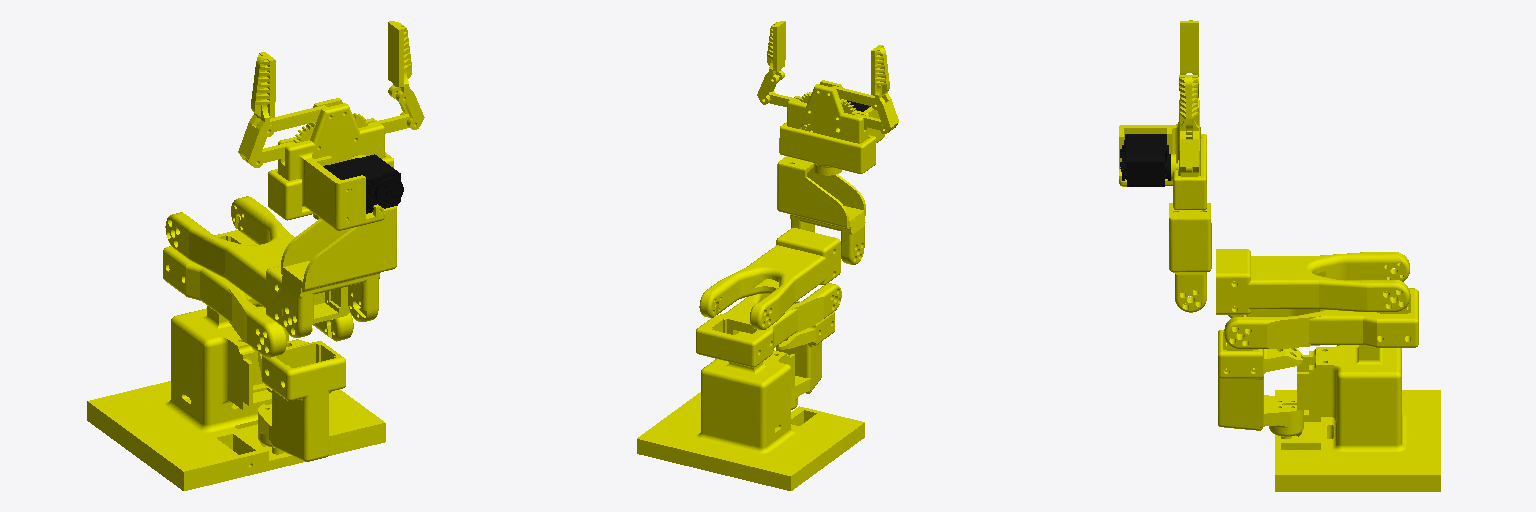
The robot description file, URDF, robot "main_arm":
<robot name="main_arm">
<material name= "printed">
    <color rgba = "0.9 0.9 0.0 1.0"/>
</material>
<material name= "sts3215">
    <color rgba="0.1 0.1 0.1 1.0"/>
</material>

    <link name="servo_elbow_ShA">
        <inertial>
            <mass value="0.06" />
            <origin xyz="0.0159729 0.01025 0.016199" rpy="0 -0 0" />
            <inertia ixx="1.29868e-05" ixy="0" ixz="0" iyy="1.55091e-05" iyz="0" izz="8.3837e-06" />
        </inertial>
        <visual>
            <origin xyz="0.00846974 0.0720049 -0.0769181" rpy="0 -0 0" />
            <geometry>
                <mesh filename="asset/servo_elbow_ShA.stl" scale="1 1 1" />
            </geometry>
          <material name="sts3215"/>
        </visual>
    <collision><origin xyz="0.00846974 0.0720049 -0.0769181" rpy="0 -0 0" />
            <geometry>
                <mesh filename="asset/servo_elbow_ShA.stl" scale="1 1 1" />
            </geometry>
            </collision></link>

    <link name="servo_WristRoll">
        <inertial>
            <mass value="0.06" />
            <origin xyz="0.0160729 -0.01025 0.016199" rpy="0 -0 0" />
            <inertia ixx="1.29868e-05" ixy="0" ixz="0" iyy="1.55091e-05" iyz="0" izz="8.3837e-06" />
        </inertial>
        <visual>
            <origin xyz="0.00856974 0.0515049 -0.0769181" rpy="0 -0 0" />
            <geometry>
                <mesh filename="asset/servo_WristRoll.stl" scale="1 1 1" />
            </geometry>
            <material name="sts3215"/>
        </visual>
        <collision>
            <origin xyz="0.00856974 0.0515049 -0.0769181" rpy="0 -0 0" />
                <geometry>
                    <mesh filename="asset/servo_WristRoll.stl" scale="1 1 1" />
                </geometry>
        </collision>
    </link>
    <link name="servo_gripperAct">
        <inertial>
            <mass value="0.06" />
            <origin xyz="0.0158729 -0.01025 0.016199" rpy="0 -0 0" />
            <inertia ixx="1.29868e-05" ixy="0" ixz="0" iyy="1.55091e-05" iyz="0" izz="8.3837e-06" />
        </inertial>
        <visual>
            <origin xyz="0.00836974 0.0515049 -0.0769181" rpy="0 -0 0" />
            <geometry>
                <mesh filename="asset/servo_GripperACT.stl" scale="1 1 1" />
            </geometry>
          <material name="sts3215"/>
        </visual>
    <collision><origin xyz="0.00836974 0.0515049 -0.0769181" rpy="0 -0 0" />
            <geometry>
                <mesh filename="asset/servo_GripperACT.stl" scale="1 1 1" />
            </geometry>
            </collision></link>
    <link name="servo_Wrist_elbow">
        <inertial>
            <mass value="0.06" />
            <origin xyz="0.0157729 -0.01025 0.016199" rpy="0 -0 0" />
            <inertia ixx="1.29868e-05" ixy="0" ixz="0" iyy="1.55091e-05" iyz="0" izz="8.3837e-06" />
        </inertial>
        <visual>
            <origin xyz="0.00826974 0.0515049 -0.0769181" rpy="0 -0 0" />
            <geometry>
                <mesh filename="asset/servo_wrist_elbow.stl" scale="1 1 1" />
            </geometry>
          <material name="sts3215"/>
        </visual>
    <collision><origin xyz="0.00826974 0.0515049 -0.0769181" rpy="0 -0 0" />
            <geometry>
                <mesh filename="asset/servo_wrist_elbow.stl" scale="1 1 1" />
            </geometry>
            </collision></link>
    <link name="servo_shouldArm_should">
        <inertial>
            <mass value="0.06" />
            <origin xyz="0.0159729 -0.01025 0.016199" rpy="0 -0 0" />
            <inertia ixx="1.29868e-05" ixy="0" ixz="0" iyy="1.55091e-05" iyz="0" izz="8.3837e-06" />
        </inertial>
        <visual>
            <origin xyz="0.00846974 0.0515049 -0.0769181" rpy="0 -0 0" />
            <geometry>
                <mesh filename="asset/servo_ShA_should.stl" scale="1 1 1" />
            </geometry>
          <material name="sts3215"/>
        </visual>
    <collision><origin xyz="0.00846974 0.0515049 -0.0769181" rpy="0 -0 0" />
            <geometry>
                <mesh filename="asset/servo_ShA_should.stl" scale="1 1 1" />
            </geometry>
            </collision></link>
    <link name="servo_shoulderpan">
        <inertial>
            <mass value="0.06" />
            <origin xyz="0.0157729 0.01025 0.016199" rpy="0 -0 0" />
            <inertia ixx="1.29868e-05" ixy="0" ixz="0" iyy="1.55091e-05" iyz="0" izz="8.3837e-06" />
        </inertial>
        <visual>
            <origin xyz="0.00826974 0.0720049 -0.0769181" rpy="0 -0 0" />
            <geometry>
                <mesh filename="asset/servo_should_base.stl" scale="1 1 1" />
            </geometry>
          <material name="sts3215"/>
        </visual>
    <collision><origin xyz="0.00826974 0.0720049 -0.0769181" rpy="0 -0 0" />
            <geometry>
                <mesh filename="asset/servo_should_base.stl" scale="1 1 1" />
            </geometry>
            </collision></link>
    <link name="adapter_head">
        <inertial>
            <mass value="0.019" />
            <origin xyz="-0.00059433 0.0162047 0.00202983" rpy="0 -0 0" />
            <inertia ixx="2.75408e-06" ixy="0" ixz="0" iyy="1.38154e-05" iyz="0" izz="1.40231e-05" />
        </inertial>
        <visual>
            <origin xyz="0.00703095 0.0699251 -0.0596998" rpy="0 -0 0" />
            <geometry>
                <mesh filename="asset/adapter_head.stl" scale="1 1 1" />
            </geometry>
      <material name="printed"/>
        </visual>
    <collision><origin xyz="0.00703095 0.0699251 -0.0596998" rpy="0 -0 0" />
            <geometry>
                <mesh filename="asset/adapter_head.stl" scale="1 1 1" />
            </geometry>
            </collision></link>



    <link name="base">
        <inertial>
            <mass value="0.175" />
            <origin xyz="0.00770222 0.0304103 0.0236808" rpy="0 -0 0" />
            <inertia ixx="0.000238571" ixy="0" ixz="0" iyy="0.000310334" iyz="0" izz="0.000346098" />
        </inertial>
        <visual>
            <origin xyz="0 0 0" rpy="0 -0 0" />
            <geometry>
                <mesh filename="asset/base_link.stl" scale="1 1 1" />
            </geometry>
      <material name="printed"/>
        </visual>
    <collision><origin xyz="0 0 0" rpy="0 -0 0" />
            <geometry>
                <mesh filename="asset/base_link.stl" scale="1 1 1" />
            </geometry>
            </collision></link>
    <link name="base_plate">
        <inertial>
            <mass value="0.0360035" />
            <origin xyz="0.00522523 0.0210279 -0.0146425" rpy="0 -0 0" />
            <inertia ixx="1.97378e-05" ixy="0" ixz="0" iyy="2.28853e-05" iyz="0" izz="2.2204e-05" />
        </inertial>
        <visual>
            <origin xyz="-0.0 0.0594811 -0.0607" rpy="0 -0 0" />
            <geometry>
                <mesh filename="asset/base_plate.stl" scale="1 1 1" />
            </geometry>
      <material name="printed"/>
        </visual>
    <collision><origin xyz="-0.0 0.0594811 -0.0607" rpy="0 -0 0" />
            <geometry>
                <mesh filename="asset/base_plate.stl" scale="1 1 1" />
            </geometry>
            </collision></link>
    <link name="coupler_left">
        <inertial>
            <mass value="0.00699978" />
            <origin xyz="-0.00232214 0.0148166 0.00259404" rpy="0 -0 0" />
            <inertia ixx="3.01851e-06" ixy="0" ixz="0" iyy="2.67734e-05" iyz="0" izz="3.06407e-06" />
        </inertial>
        <visual>
            <origin xyz="0.0547096 0.00287064 -0.0591543" rpy="0 -0 0" />
            <geometry>
                <mesh filename="asset/coupler_left.stl" scale="1 1 1" />
            </geometry>
      <material name="printed"/>
        </visual>
    <collision><origin xyz="0.0547096 0.00287064 -0.0591543" rpy="0 -0 0" />
            <geometry>
                <mesh filename="asset/coupler_left.stl" scale="1 1 1" />
            </geometry>
            </collision></link>
    <link name="coupler_right">
        <inertial>
            <mass value="0.00699978" />
            <origin xyz="0.00232214 0.0148166 0.00259404" rpy="0 -0 0" />
            <inertia ixx="3.01851e-06" ixy="0" ixz="0" iyy="2.67734e-5" iyz="0" izz="3.06407e-06" />
        </inertial>
        <visual>
            <origin xyz="-0.0457698 0.00287064 -0.0591543" rpy="0 -0 0" />
            <geometry>
                <mesh filename="asset/coupler_right.stl" scale="1 1 1" />
            </geometry>
      <material name="printed"/>
        </visual>
    <collision><origin xyz="-0.0457698 0.00287064 -0.0591543" rpy="0 -0 0" />
            <geometry>
                <mesh filename="asset/coupler_right.stl" scale="1 1 1" />
            </geometry>
            </collision></link>
    <link name="crank_left">
        <inertial>
            <mass value="0.00350053" />
            <origin xyz="-0.0100083 -2.80286e-05 -0.00225009" rpy="0 -0 0" />
            <inertia ixx="1.20432e-05" ixy="0" ixz="0" iyy="9.40499e-06" iyz="0" izz="1.04911e-06" />
        </inertial>
        <visual>
            <origin xyz="0.0179546 0.0231341 -0.0638941" rpy="0 -0 0" />
            <geometry>
                <mesh filename="asset/crank_left.stl" scale="1 1 1" />
            </geometry>
      <material name="printed"/>
        </visual>
    <collision><origin xyz="0.0179546 0.0231341 -0.0638941" rpy="0 -0 0" />
            <geometry>
                <mesh filename="asset/crank_left.stl" scale="1 1 1" />
            </geometry>
            </collision></link>
    <link name="crank_right">
        <inertial>
            <mass value="0.0034911" />
            <origin xyz="0.0100013 -3.10191e-05 -0.0022501" rpy="0 -0 0" />
            <inertia ixx="1.20263e-05" ixy="0" ixz="0" iyy="9.40417e-06" iyz="0" izz="1.0489e-06" />
        </inertial>
        <visual>
            <origin xyz="-0.00901481 0.0231341 -0.0638941" rpy="0 -0 0" />
            <geometry>
                <mesh filename="asset/crank_right.stl" scale="1 1 1" />
            </geometry>
      <material name="printed"/>
        </visual>
    <collision><origin xyz="-0.00901481 0.0231341 -0.0638941" rpy="0 -0 0" />
            <geometry>
                <mesh filename="asset/crank_right.stl" scale="1 1 1" />
            </geometry>
            </collision></link>
    <link name="elbow_arm">
        <inertial>
            <mass value="0.0550237" />
            <origin xyz="0.018507 -0.0744213 0.000250363" rpy="0 -0 0" />
            <inertia ixx="8.29456e-05" ixy="0" ixz="0" iyy="2.15612e-05" iyz="0" izz="9.68997e-05" />
        </inertial>
        <visual>
            <origin xyz="0.014005 0.0596384 0.106823" rpy="0 -0 0" />
            <geometry>
                <mesh filename="asset/elbow_arm.stl" scale="1 1 1" />
            </geometry>
      <material name="printed"/>
        </visual>
    <collision><origin xyz="0.014005 0.0596384 0.106823" rpy="0 -0 0" />
            <geometry>
                <mesh filename="asset/elbow_arm.stl" scale="1 1 1" />
            </geometry>
            </collision></link>
    <link name="rocker_left">
        <inertial>
            <mass value="0.00199998" />
            <origin xyz="-0.0224999 -7.18536e-05 -0.00225022" rpy="0 -0 0" />
            <inertia ixx="1.40133e-05" ixy="0" ixz="0" iyy="4.25253e-05" iyz="0" izz="4.32516e-05" />
        </inertial>
        <visual>
            <origin xyz="0.0097099 0.00272783 -0.0639547" rpy="0 -0 0" />
            <geometry>
                <mesh filename="asset/rocker_right.stl" scale="1 1 1" />
            </geometry>
      <material name="printed"/>
        </visual>
    <collision><origin xyz="0.0097099 0.00272783 -0.0639547" rpy="0 -0 0" />
            <geometry>
                <mesh filename="asset/rocker_right.stl" scale="1 1 1" />
            </geometry>
            </collision></link>
    <link name="rocker_left_1">
        <inertial>
            <mass value="0.00199998" />
            <origin xyz="0.0224999 7.18536e-05 0.00225022" rpy="0 -0 0" />
            <inertia ixx="1.40133e-05" ixy="0" ixz="0" iyy="4.25253e-05" iyz="0" izz="4.32516e-05" />
        </inertial>
        <visual>
            <origin xyz="0.0547096 0.00287153 -0.0594543" rpy="0 -0 0" />
            <geometry>
                <mesh filename="asset/rocker_left.stl" scale="1 1 1" />
            </geometry>
      <material name="printed"/>
        </visual>
    <collision><origin xyz="0.0547096 0.00287153 -0.0594543" rpy="0 -0 0" />
            <geometry>
                <mesh filename="asset/rocker_left.stl" scale="1 1 1" />

            </geometry>
            </collision></link>
    <link name="servotip">
        <inertial>
            <mass value="0.0015" />
            <origin xyz="0.0 0.0 0.00262943" rpy="0 -0 0" />
            <inertia ixx="4.26e-6" ixy="0" ixz="0" iyy="4.25e-6" iyz="0" izz="7.191e-06" />
        </inertial>
        <visual>
            <origin xyz="0.0219142 0.0378575 -0.0453451" rpy="0 -0 0" />
            <geometry>
                <mesh filename="asset/servotip.stl" scale="1 1 1" />
            </geometry>
      <material name="printed"/>
        </visual>
    <collision><origin xyz="0.0219142 0.0378575 -0.0453451" rpy="0 -0 0" />
            <geometry>
                <mesh filename="asset/servotip.stl" scale="1 1 1" />
            </geometry>
            </collision></link>
    <link name="servotip_1">
        <inertial>
            <mass value="0.0015" />
            <origin xyz="0.0 0.0 0.0082181" rpy="0 -0 0" />
            <inertia ixx="3.23e-6" ixy="0" ixz="0" iyy="3.145e-6" iyz="0" izz="3.704e-06" />
        </inertial>
        <visual>
            <origin xyz="0.0219142 0.0378575 -0.0493451" rpy="0 -0 0" />
            <geometry>
                <mesh filename="asset/servotip_1.stl" scale="1 1 1" />
            </geometry>
      <material name="printed"/>
        </visual>
    <collision><origin xyz="0.0219142 0.0378575 -0.0493451" rpy="0 -0 0" />
            <geometry>
                <mesh filename="asset/servotip_1.stl" scale="1 1 1" />
            </geometry>
            </collision></link>
    <link name="shoulder">
        <inertial>
            <mass value="0.038" />
            <origin xyz="0.000142718 -0.0247379 -0.0208606" rpy="0 -0 0" />
            <inertia ixx="2.77468e-05" ixy="0" ixz="0" iyy="2.15077e-05" iyz="0" izz="1.43619e-05" />
        </inertial>
        <visual>
            <origin xyz="-0.0078711 0.0272652 -0.0717685" rpy="0 -0 0" />
            <geometry>
                <mesh filename="asset/should.stl" scale="1 1 1" />
            </geometry>
      <material name="printed"/>
        </visual>
    <collision><origin xyz="-0.0078711 0.0272652 -0.0717685" rpy="0 -0 0" />
            <geometry>
                <mesh filename="asset/should.stl" scale="1 1 1" />
            </geometry>
            </collision></link>
    <link name="shoulder_arm">
        <inertial>
            <mass value="0.0539831" />
            <origin xyz="0.0185584 0.0731213 -0.000376907" rpy="0 -0 0" />
            <inertia ixx="8.52246e-05" ixy="0" ixz="0" iyy="2.29138e-05" iyz="0" izz="0.000102709" />
        </inertial>
        <visual>
            <origin xyz="0.0113697 0.0617549 -0.105929" rpy="0 -0 0" />
            <geometry>
                <mesh filename="asset/shoulder_arm.stl" scale="1 1 1" />
            </geometry>
      <material name="printed"/>
        </visual>
    <collision><origin xyz="0.0113697 0.0617549 -0.105929" rpy="0 -0 0" />
            <geometry>
                <mesh filename="asset/shoulder_arm.stl" scale="1 1 1" />
            </geometry>
            </collision></link>
    <link name="wrist">
        <inertial>
            <mass value="0.0349991" />
            <origin xyz="0.0272531 6.78038e-05 -0.0302115" rpy="0 -0 0" />
            <inertia ixx="1.70237e-05" ixy="0" ixz="0" iyy="3.1539e-05" iyz="0" izz="2.10098e-05" />
        </inertial>
        <visual>
            <origin xyz="0.0126699 0.0987808 -0.135201" rpy="0 -0 0" />
            <geometry>
                <mesh filename="asset/wrist.stl" scale="1 1 1" />
            </geometry>
      <material name="printed"/>
        </visual>
    <collision><origin xyz="0.0126699 0.0987808 -0.135201" rpy="0 -0 0" />
            <geometry>
                <mesh filename="asset/wrist.stl" scale="1 1 1" />
            </geometry>
            </collision></link>
    <joint name="Fastened_11_0" type="fixed">
        <origin xyz="0.0142642 0.0082969 -0.0218437" rpy="0 1.5708 -3.14159" />
        <axis xyz="1 0.0 0.0" />
        <parent link="base_plate" />
        <child link="servo_gripperAct" />
    </joint>

    <joint name="Fastened_2_0" type="fixed">
        <origin xyz="-0.00265 0.00151296 0.068822" rpy="0 1.5708 -1.5708" />
        <axis xyz="-1 0.0 0.0" />
        <parent link="base" />
        <child link="servo_shoulderpan" />
    </joint>
    <joint name="Fastened_3_0" type="fixed">
        <origin xyz="-0.0163408 -0.0242397 0.00514968" rpy="-0 0 -0" />
        <axis xyz="1 0.0 0.0" />
        <parent link="shoulder" />
        <child link="servo_shouldArm_should" />
    </joint>
    <joint name="Fastened_4_0" type="fixed">
        <origin xyz="0.002 0.10475 0.000459714" rpy="-0 0 -0" />
        <axis xyz="1 0.0 0.0" />
        <parent link="shoulder_arm" />
        <child link="servo_elbow_ShA" />
    </joint>
    <joint name="Fastened_5_0" type="fixed">
        <origin xyz="0.0023 -0.123046 0.0101138" rpy="1.5708 0 0" />
        <axis xyz="-1 -0.0 -0.0" />
        <parent link="elbow_arm" />
        <child link="servo_Wrist_elbow" />
    </joint>
    <joint name="Fastened_6_0" type="fixed">
        <origin xyz="0.0472 0.010463 -0.0675192" rpy="0 -1.5708 0.00297141" />
        <axis xyz="1 0.0 0.0" />
        <parent link="wrist" />
        <child link="servo_WristRoll" />
    </joint>
    <joint name="Fastened_7_0" type="fixed">
        <origin xyz="0.0 0.0133 0.00499983" rpy="0.0 -0.0 0.0" />
        <axis xyz="0 -1 0" />
        <parent link="adapter_head" />
        <child link="base_plate" />
    </joint>
    <joint name="Fastened_8_0" type="fixed">
        <origin xyz="0.0 0.0 0.004" rpy="0 0 0" />
        <axis xyz="0 0 1" />
        <parent link="servotip" />
        <child link="servotip_1" />
    </joint>

    <joint name="Revolute_1_0" type="continuous">
        <origin xyz="-0.0027 -0.01025 0.029" rpy="0 -1.5708 -0" />
        <axis xyz="0 0 -1" />
        <parent link="servo_gripperAct" />
        <child link="servotip" />
      
    </joint>
    <joint name="Revolute_2_0" type="continuous">
        <origin xyz="-0.0134847 0.0390747 -0.0072" rpy="3.13862 0 3.14159" />
        <axis xyz="0.0 -0.00297141 0.999996" />
        <parent link="base_plate" />
        <child link="crank_right" />
                  <mimic joint="Revolute_1_0" multiplier="-0.52" offset="0.0"/>
    </joint>
    <joint name="Revolute_3_0" type="continuous">
        <origin xyz="0.0134847 0.0390747 -0.0072" rpy="3.13862 0 -3.14159" />
        <axis xyz="0.0 -0.00297141 0.999996" />
        <parent link="base_plate" />
        <child link="crank_left" />
                   <mimic joint="Revolute_2_0" multiplier="-1.0" offset="0.0"/>
    </joint>
    <joint name="Revolute_4_0" type="continuous">
        <origin xyz="0.00524 0.0594811 -0.0027" rpy="-0.00297141 -0 3.13461" />
        <axis xyz="0.0 0.00297141 -0.999996" />
        <parent link="base_plate" />
        <child link="rocker_left" />
                  <mimic joint="Revolute_3_0" multiplier="1.0" offset="0.0"/>
    </joint>
    <joint name="Revolute_5_0" type="continuous">
        <origin xyz="-0.00524 0.0594811 -0.0027" rpy="3.13862 0 -3.13461" />
        <axis xyz="0.0 0.00297141 -0.999996" />
        <parent link="base_plate" />
        <child link="rocker_left_1" />
                  <mimic joint="Revolute_2_0" multiplier="-1.0" offset="-6.28318530717958"/>
    </joint>
    <joint name="Revolute_7_0" type="continuous">
        <origin xyz="0.0449997 0.00015797 -0.000299532" rpy="-0 -2.07441e-05 0.00698127" />
        <axis xyz="0.0 -0.00297141 0.999996" />
        <parent link="rocker_left_1" />
        <child link="coupler_right" />
                  <mimic joint="Revolute_2_0" multiplier="-1.0" offset="6.28318530717958"/>
    </joint>
    <joint name="Revolute_9_0" type="continuous">
        <origin xyz="-0.0449997 -0.00015797 0.000299532" rpy="3.14159 -2.07442e-05 0.00698129" />
        <axis xyz="0.0 -0.00297141 0.999996" />
        <parent link="rocker_left" />
        <child link="coupler_left" />
                  <mimic joint="Revolute_3_0" multiplier="-1.0" offset="6.28318530717958"/>
    </joint>

    <joint name="sArm_shoulder_0" type="continuous">
        <origin xyz="-0.0026 -0.01025 0.029" rpy="0.00170445 -0 -0" />
        <axis xyz="1 0.0 0.0" />
        <parent link="servo_shouldArm_should" />
        <child link="shoulder_arm" />
    </joint>
    <joint name="shoulder_baselink_0" type="continuous">
        <origin xyz="-0.0028 0.01025 0.029" rpy="-1.5708 0 1.5708" />
        <axis xyz="0 0 -1" />
        <parent link="servo_shoulderpan" />
        <child link="shoulder" />
    </joint>
    <joint name="shoulder_elbow_0" type="continuous">
        <origin xyz="-0.0029 0.01025 0.029" rpy="0.00170445 -0 0" />
        <axis xyz="1 0 0" />
        <parent link="servo_elbow_ShA" />
        <child link="elbow_arm" />
    </joint>
    <joint name="wrist_elbow_0" type="continuous">
        <origin xyz="-0.0028 -0.01025 0.029" rpy="1.57421 -0 0" />
        <axis xyz="1 0.0 0.0" />
        <parent link="servo_Wrist_elbow" />
        <child link="wrist" />
    </joint>
    <joint name="wrist_roll_0" type="continuous">
        <origin xyz="-0.0025 -0.01025 0.029" rpy="0 -1.5708 -4.71239" />
        <axis xyz="0 -1 0" />
        <parent link="servo_WristRoll" />
        <child link="adapter_head" />
    </joint>
</robot>

--- Facts derived from the render (not from the file) ---
Views: 3 orthographic renders of the robot side by side, from view 1: azimuth 30°, elevation 25°; view 2: azimuth 150°, elevation 25°; view 3: azimuth 270°, elevation 25°.
Model main_arm with 21 links and 20 joints (12 continuous, 8 fixed), rooted at base, posed all joints at 0.
Visible links, largest first — view 1: base, wrist, elbow_arm, shoulder, base_plate, shoulder_arm, coupler_left, servo_gripperAct, coupler_right, adapter_head, rocker_left, crank_left (+1 smaller); view 2: base, elbow_arm, wrist, shoulder_arm, adapter_head, base_plate, shoulder, coupler_left, coupler_right; view 3: base, elbow_arm, shoulder_arm, shoulder, wrist, servo_gripperAct, coupler_right, adapter_head, base_plate, coupler_left.
Boxes of the visible links, left/top/right/bottom form: base: left=87, top=306, right=385, bottom=490; wrist: left=281, top=206, right=396, bottom=337; elbow_arm: left=165, top=196, right=349, bottom=327; shoulder: left=258, top=339, right=345, bottom=461; base_plate: left=278, top=98, right=384, bottom=230; shoulder_arm: left=163, top=230, right=353, bottom=357; coupler_left: left=238, top=52, right=275, bottom=167; servo_gripperAct: left=323, top=154, right=403, bottom=213; coupler_right: left=388, top=21, right=424, bottom=129; adapter_head: left=268, top=152, right=393, bottom=220; rocker_left: left=257, top=105, right=326, bottom=131; crank_left: left=245, top=122, right=315, bottom=162; base: left=637, top=350, right=864, bottom=490; elbow_arm: left=699, top=228, right=840, bottom=329; wrist: left=777, top=156, right=865, bottom=264; shoulder_arm: left=696, top=283, right=841, bottom=367; adapter_head: left=779, top=122, right=875, bottom=175; base_plate: left=787, top=80, right=884, bottom=143; shoulder: left=776, top=301, right=834, bottom=409; coupler_left: left=871, top=45, right=898, bottom=133; coupler_right: left=757, top=21, right=785, bottom=104; base: left=1275, top=345, right=1440, bottom=491; elbow_arm: left=1216, top=249, right=1409, bottom=314; shoulder_arm: left=1224, top=288, right=1418, bottom=348; shoulder: left=1218, top=330, right=1303, bottom=438; wrist: left=1169, top=203, right=1211, bottom=312; servo_gripperAct: left=1120, top=134, right=1170, bottom=186; coupler_right: left=1179, top=75, right=1198, bottom=172; adapter_head: left=1173, top=134, right=1206, bottom=209; base_plate: left=1119, top=99, right=1200, bottom=186; coupler_left: left=1180, top=20, right=1198, bottom=98.
Bounding box of the posed robot: 0.15 × 0.2412 × 0.3293 m (x, y, z).
Meshes: 21 distinct files referenced, 15 mesh visuals loaded (15 binary STL); not drawn: 6 (reference not matched to a file when rendering).
